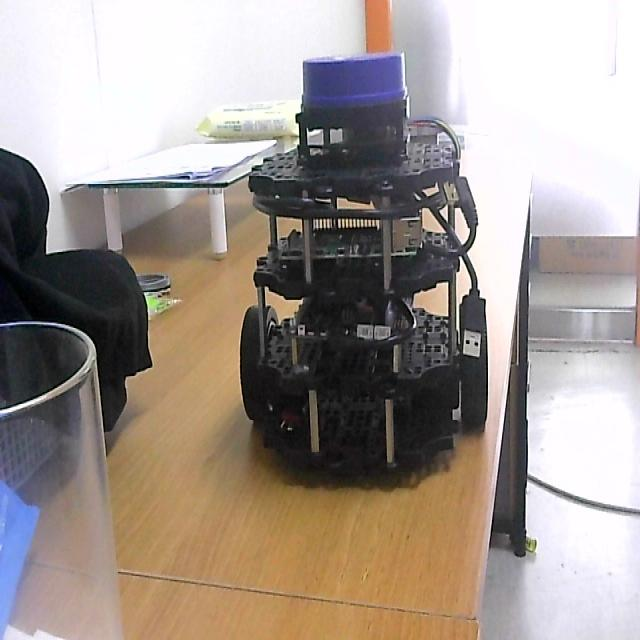turtle: (237, 47, 491, 487)
